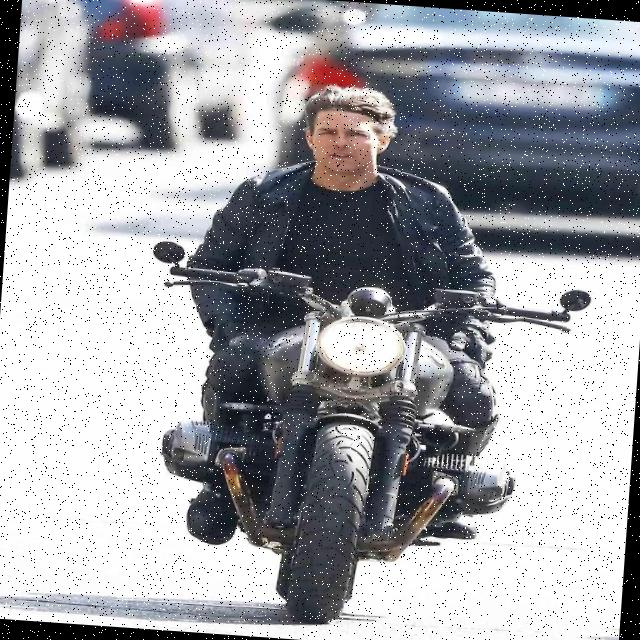No helmet: (289, 78, 407, 200)
